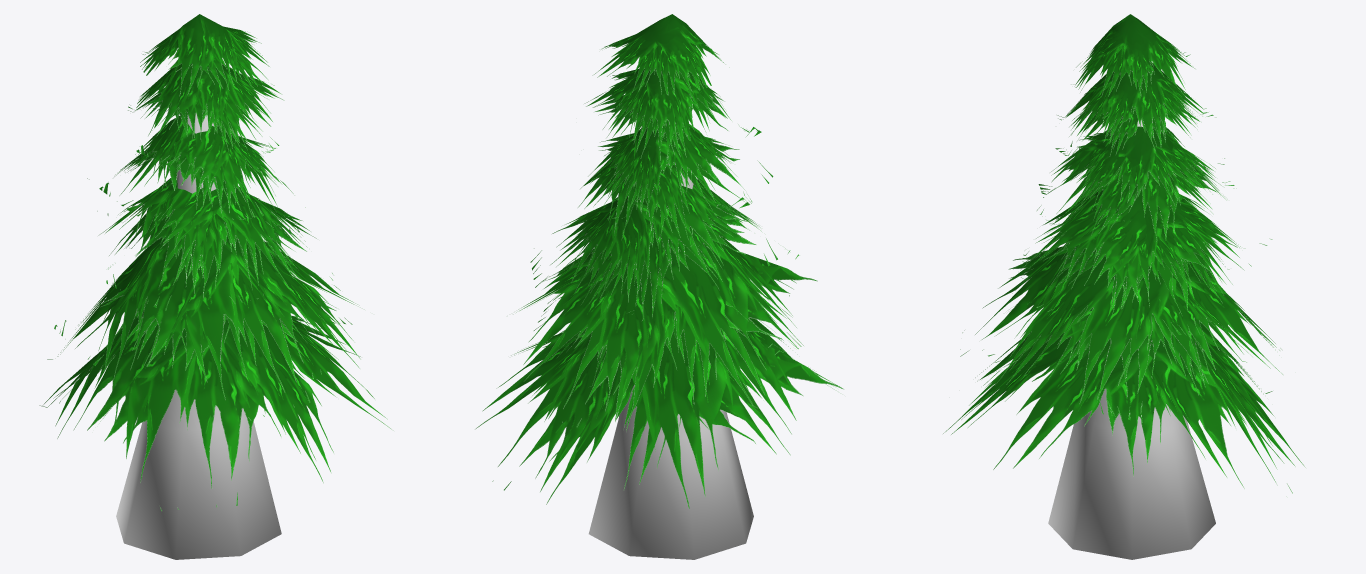
Rendered from tree_1.fbx.
3 renders of one model, left to right at view 1: azimuth 30°, elevation 25°; view 2: azimuth 150°, elevation 25°; view 3: azimuth 270°, elevation 25°, orthographic.
Visible parts, largest first — view 1: Plane.004, Plane.000, Cylinder; view 2: Plane.004, Plane.000, Cylinder; view 3: Plane.004, Plane.000, Cylinder.
Part boxes in pixels (x1=…): Plane.004: x1=39, y1=63, x2=393, y2=511; Plane.000: x1=47, y1=14, x2=364, y2=420; Cylinder: x1=116, y1=113, x2=281, y2=559; Plane.004: x1=475, y1=68, x2=844, y2=508; Plane.000: x1=513, y1=14, x2=817, y2=431; Cylinder: x1=588, y1=173, x2=753, y2=559; Plane.004: x1=943, y1=61, x2=1305, y2=496; Plane.000: x1=960, y1=14, x2=1282, y2=403; Cylinder: x1=1048, y1=120, x2=1215, y2=559.
Bounding box in the file's own units: 358 × 453 × 345.
